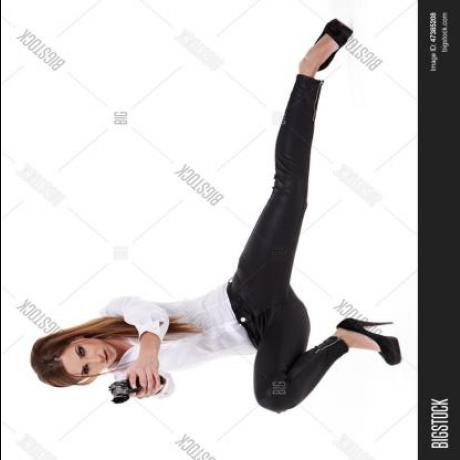1: (24, 14, 402, 416)
weapon: (95, 354, 176, 409)
